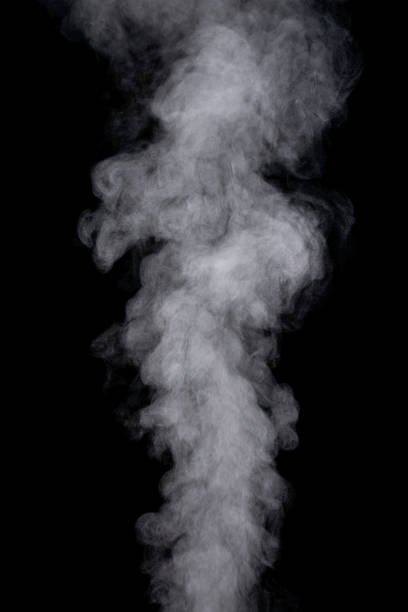smoke: (82, 1, 338, 612)
